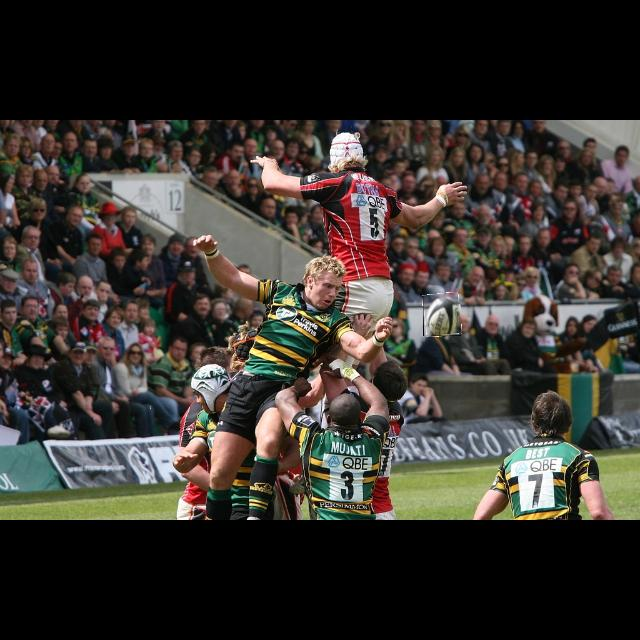Football: (423, 294, 461, 336)
